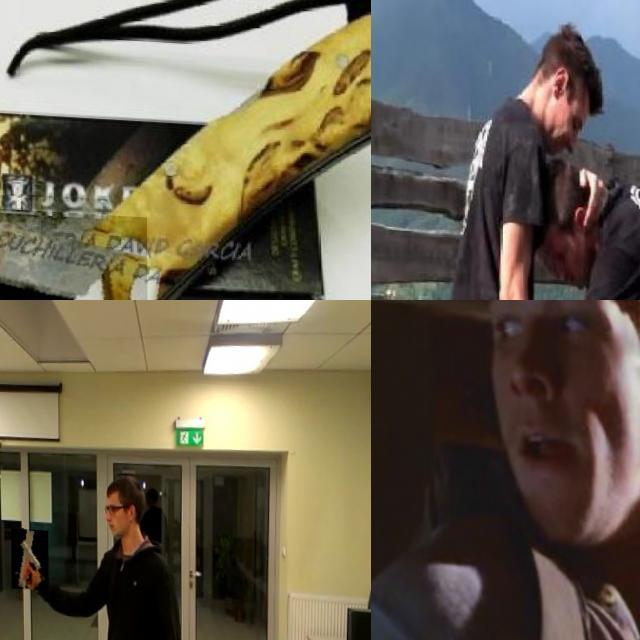gun-knife-thesis - v11 Yolov5 augmented: (11, 525, 48, 587)
